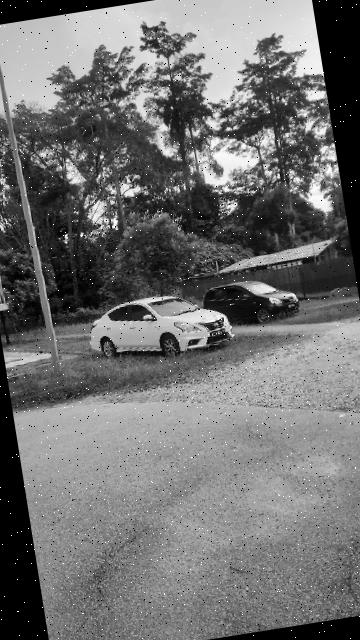License_Plate: (207, 328, 230, 339)
car: (85, 285, 239, 372), (197, 270, 304, 335)
